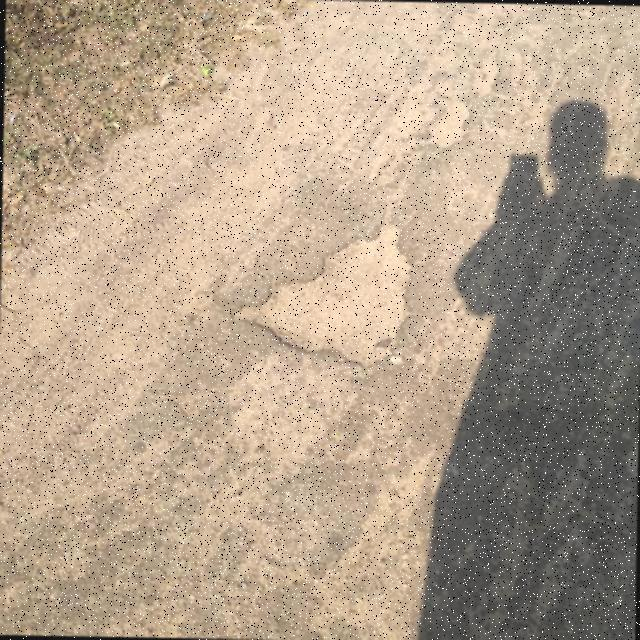Pothole: (239, 222, 410, 367)
